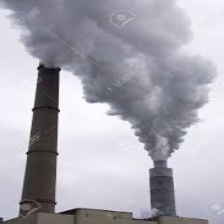smoke: (79, 1, 199, 167)
